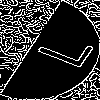L: (25, 25, 95, 71)
